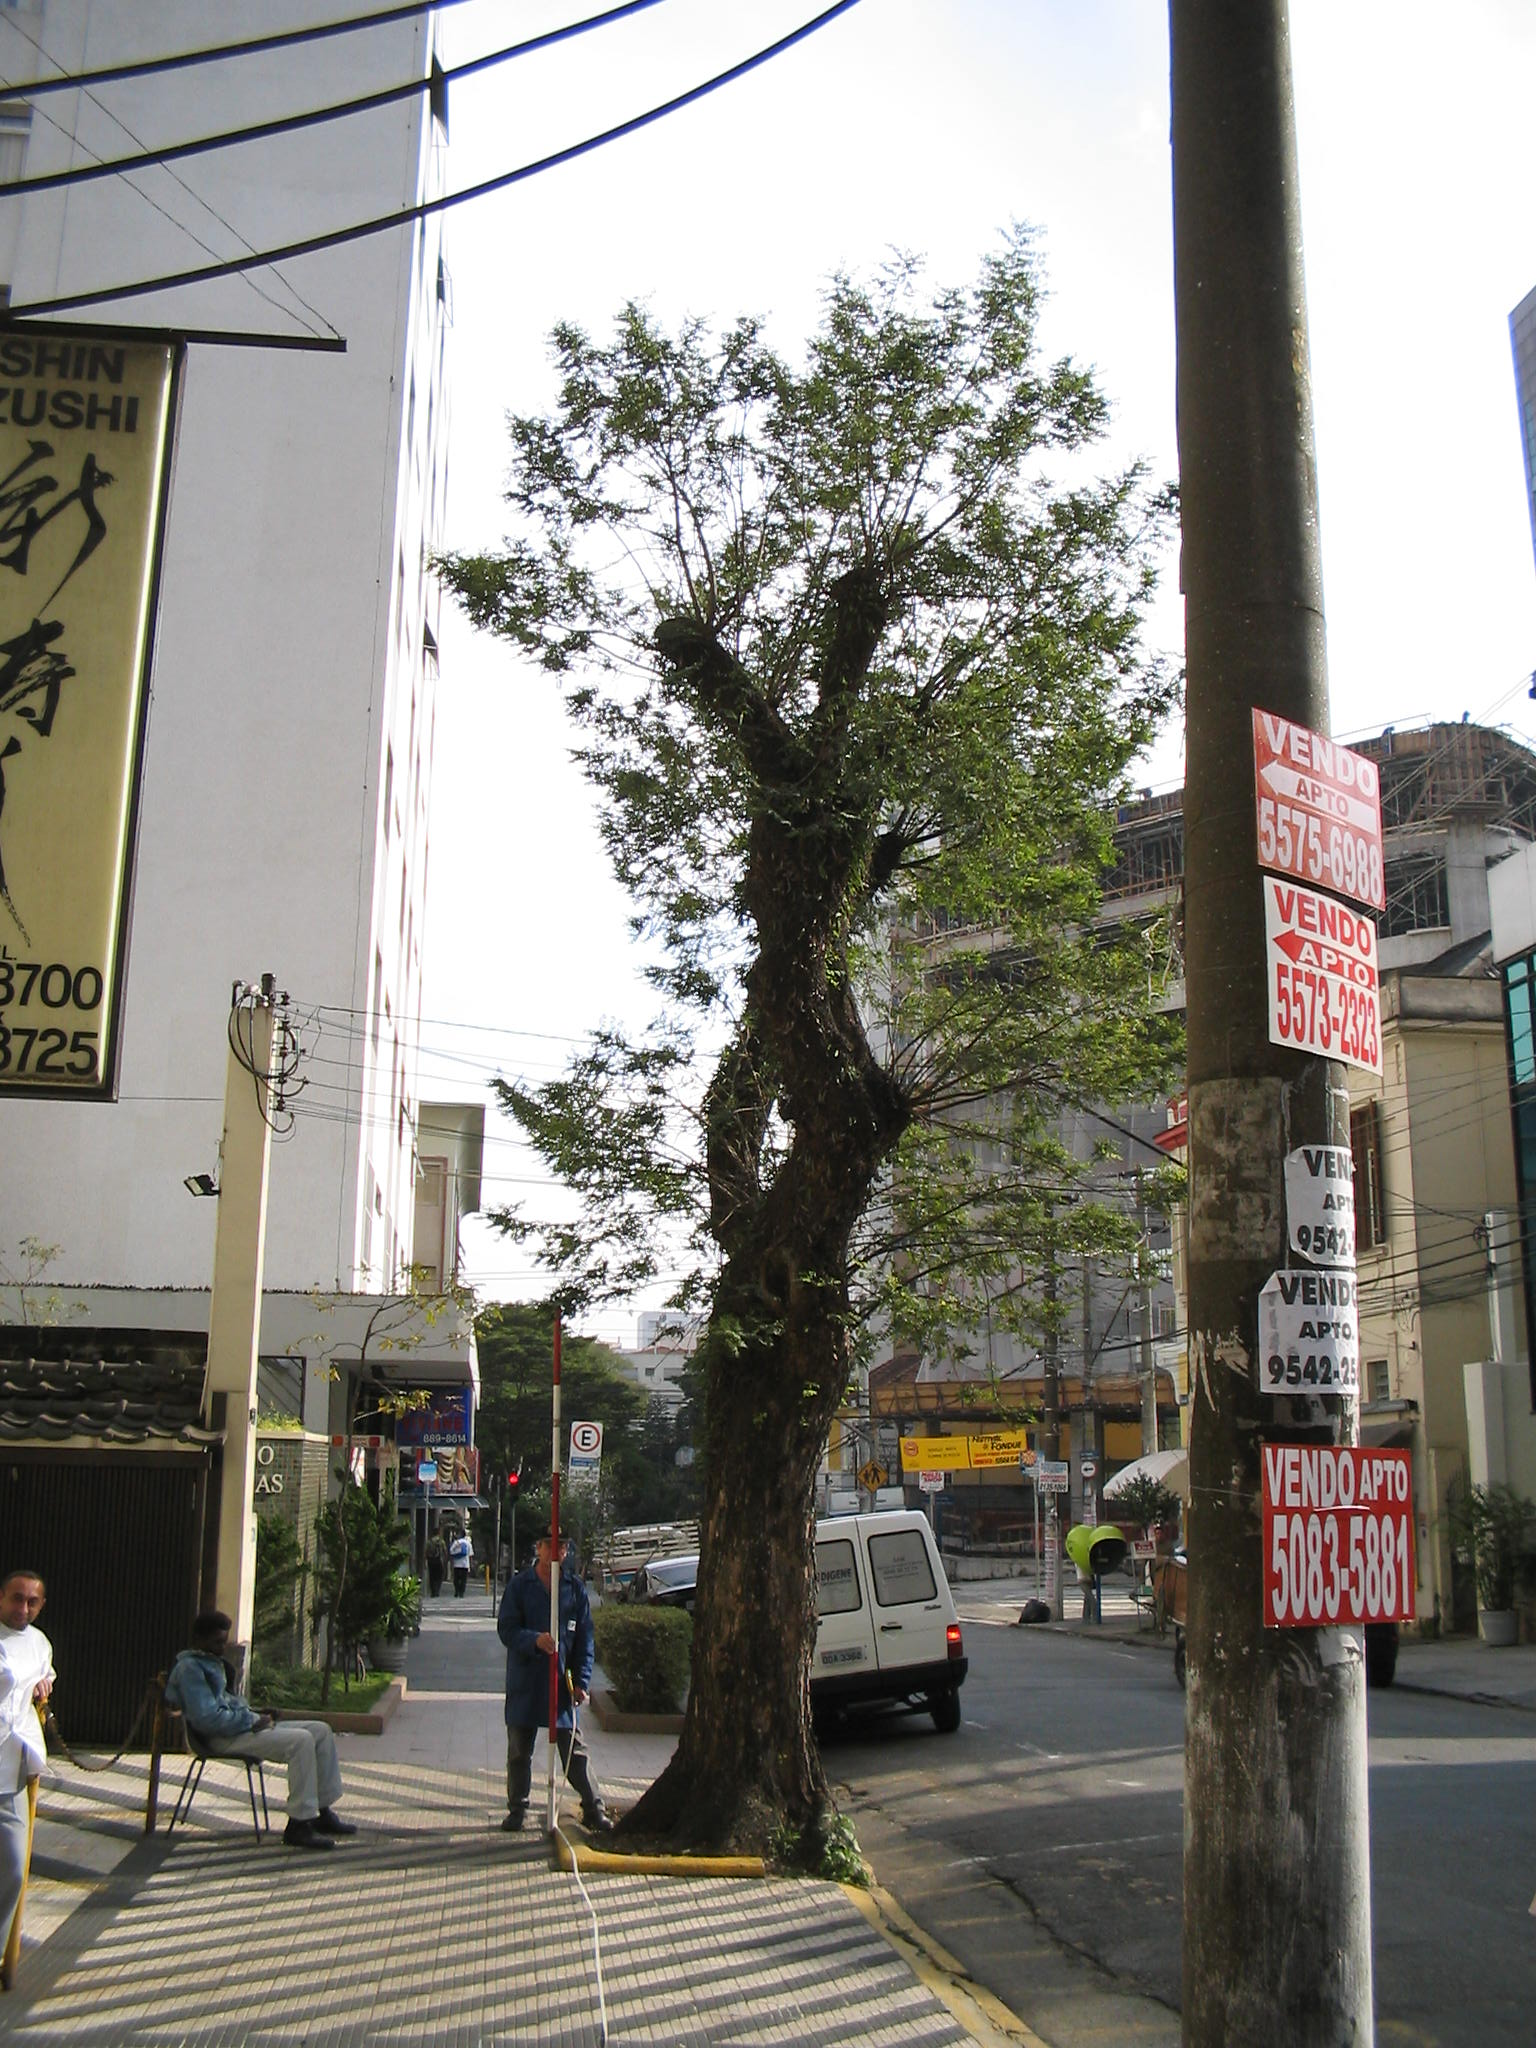crown: (432, 226, 1183, 1308)
stem: (611, 1245, 886, 1854)
stick: (516, 1321, 599, 1843)
tree: (424, 218, 1187, 1861)
